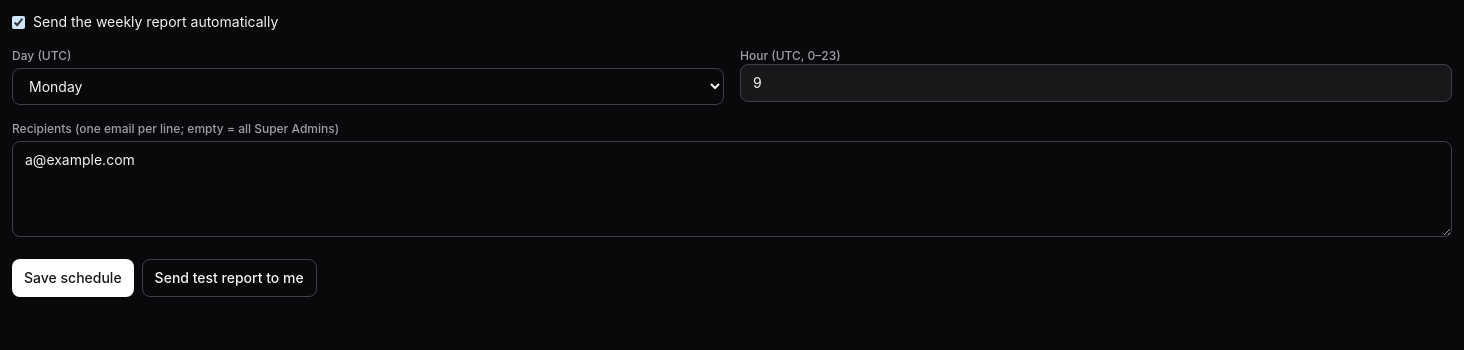
Test: gap closure: json parse failures, busy guards, field changes › saves with an unparseable error body falling back to request_failed
The width and height of the screenshot is (1464, 350).
What coordinates should you click on to do the following:
click the button "Save schedule"
I would click on:
 (73, 278)
Its box is [12,259,134,297].
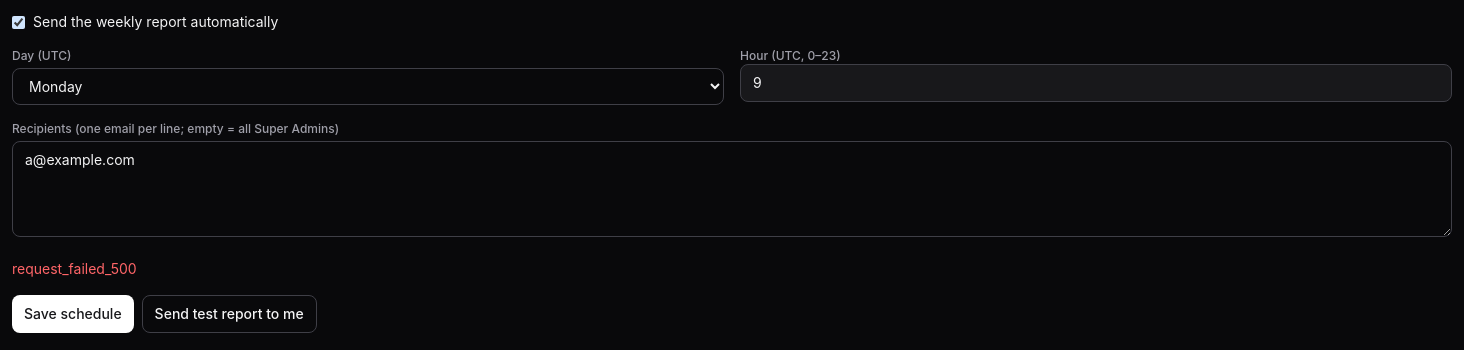
expect the message reads "request_failed_500": met, box [12,260,137,277]
